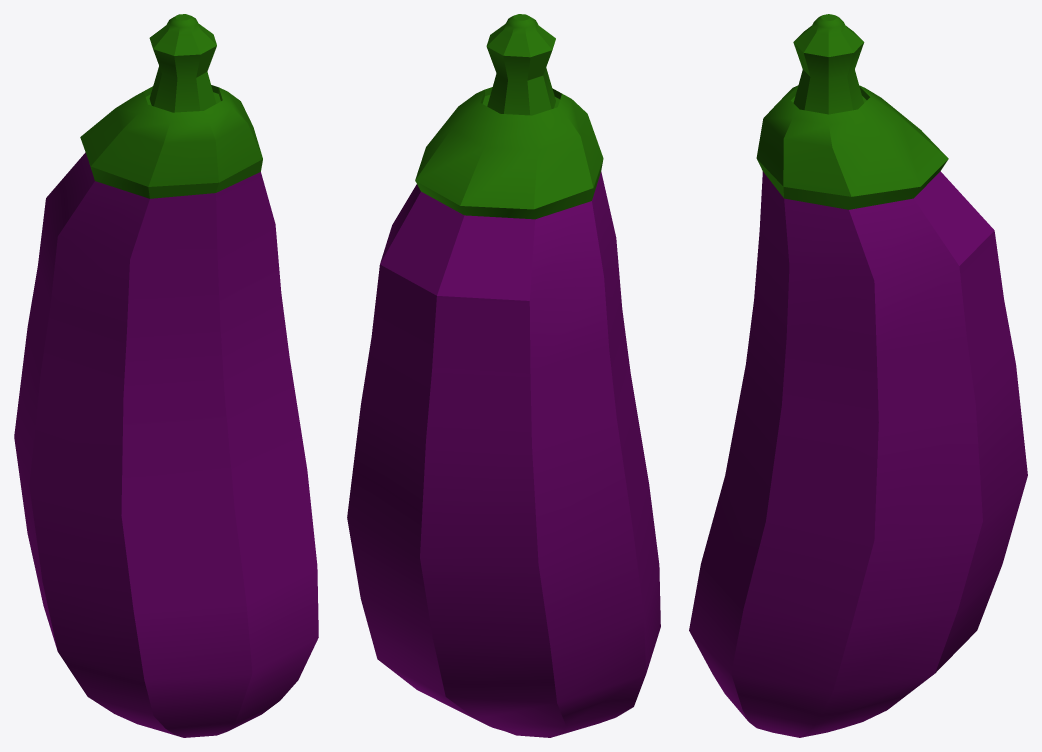
The model's file is Eggplant.fbx.
3 views of the same model, side by side, from view 1: azimuth 30°, elevation 25°; view 2: azimuth 150°, elevation 25°; view 3: azimuth 270°, elevation 25° (orthographic). The views are drawn at different scales.
Parts seen in each view (by area): view 1: pCylinder2; view 2: pCylinder2; view 3: pCylinder2.
Part boxes in pixels (bbox=[...]): pCylinder2: bbox=[14, 14, 318, 737]; pCylinder2: bbox=[347, 14, 660, 737]; pCylinder2: bbox=[689, 14, 1027, 737].
Size of the model in its own units: 1.25 by 3.15 by 1.38.
